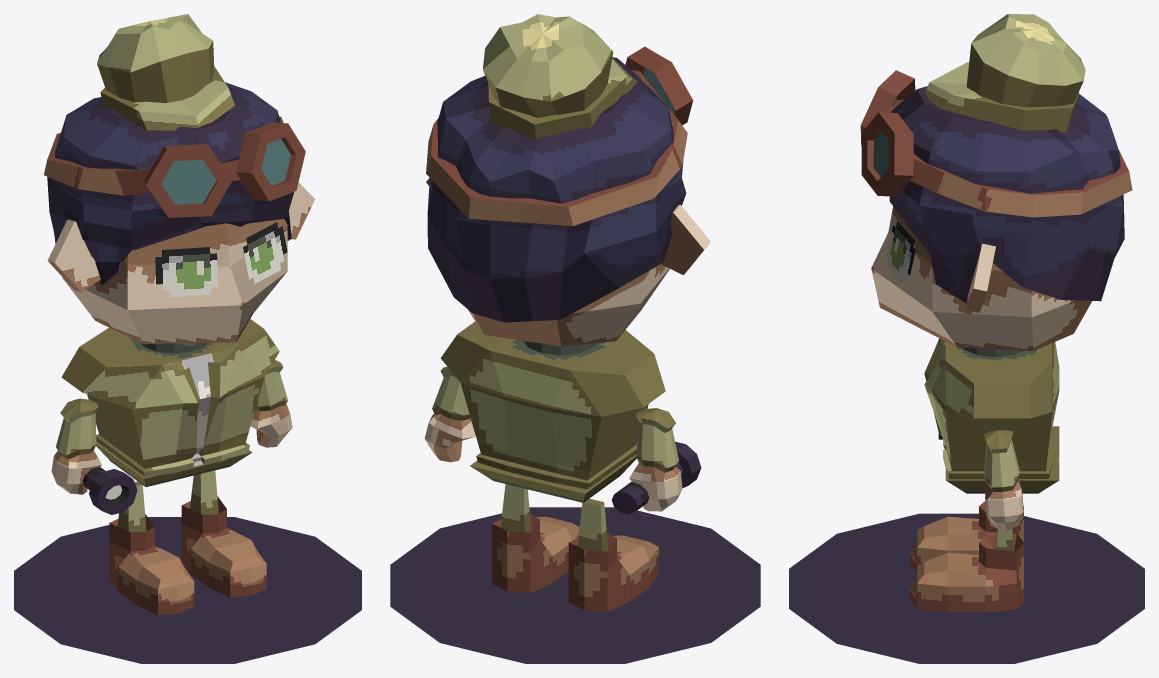
The model's file is Player.gltf.
3 views of the same model, side by side, from view 1: azimuth 30°, elevation 25°; view 2: azimuth 150°, elevation 25°; view 3: azimuth 270°, elevation 25° (orthographic). The views are drawn at different scales.
Parts seen in each view (by area): view 1: Cabeca, Sombra, Corpo, Bone, Pe2, Pe1, Braco1, Olho1, Braco2, Olho2; view 2: Cabeca, Sombra, Corpo, Bone, Pe1, Pe2, Braco1, Braco2; view 3: Cabeca, Sombra, Corpo, Bone, Pe2, Braco2, Pe1, Olho2.
Part boxes in pixels (x1,y1,x2,y2): Cabeca: (44,82,314,344); Sombra: (14,517,361,663); Corpo: (61,319,279,486); Bone: (97,14,234,130); Pe2: (181,470,266,597); Pe1: (109,481,194,615); Braco1: (51,398,137,514); Olho1: (155,247,217,297); Braco2: (250,360,292,447); Olho2: (243,222,287,283); Cabeca: (426,46,710,346); Sombra: (390,507,760,663); Corpo: (440,321,665,502); Bone: (483,14,637,139); Pe1: (568,498,658,611); Pe2: (492,484,579,593); Braco1: (611,408,701,514); Braco2: (424,366,475,462); Cabeca: (860,70,1132,350); Sombra: (789,513,1144,663); Corpo: (924,338,1059,493); Bone: (925,14,1085,131); Pe2: (910,528,1023,612); Braco2: (984,430,1023,530); Pe1: (910,501,1023,572); Olho2: (886,221,915,282).
Size of the model in its own units: 3.12 by 5.48 by 3.12.
10 materials, 10 textured.
